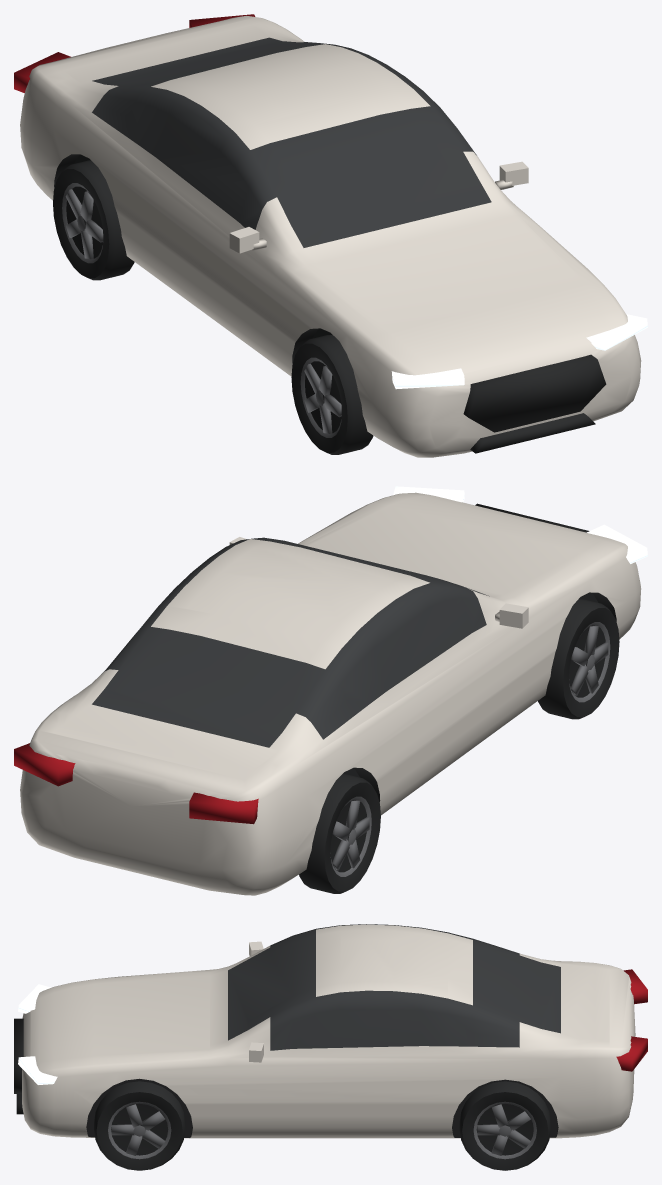
File: pearl-sedan.glb
The picture shows the model from 3 angles, top to bottom: view 1: azimuth 30°, elevation 25°; view 2: azimuth 150°, elevation 25°; view 3: azimuth 270°, elevation 25°; orthographic projection. The views are drawn at different scales.
Visible parts, largest first — view 1: pearl-sedan; view 2: pearl-sedan; view 3: pearl-sedan.
Part boxes in pixels (x1,y1,x2,y2): pearl-sedan: (14,14,647,457); pearl-sedan: (14,486,647,895); pearl-sedan: (14,924,647,1170).
Bounding box in the file's own units: 2.04 × 1.45 × 4.99.
